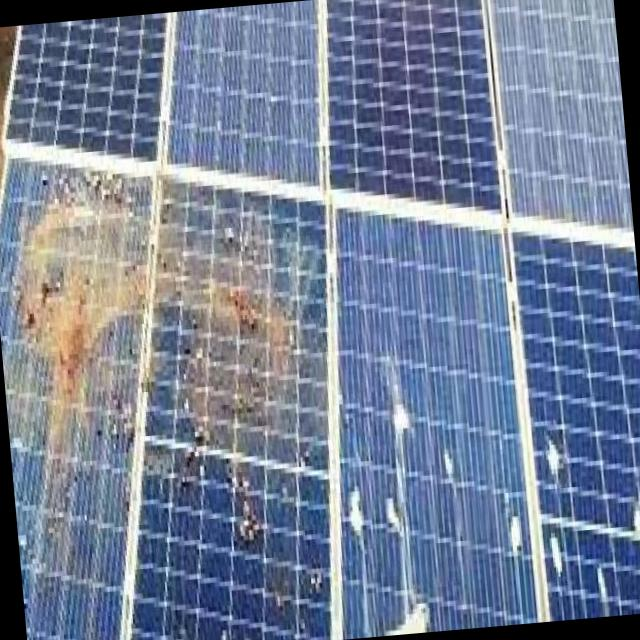faulty: (137, 181, 322, 640), (333, 215, 531, 635), (0, 167, 149, 640), (509, 238, 640, 620), (497, 0, 633, 222), (177, 0, 321, 177)
no faulty: (333, 0, 507, 213), (12, 13, 159, 144)
